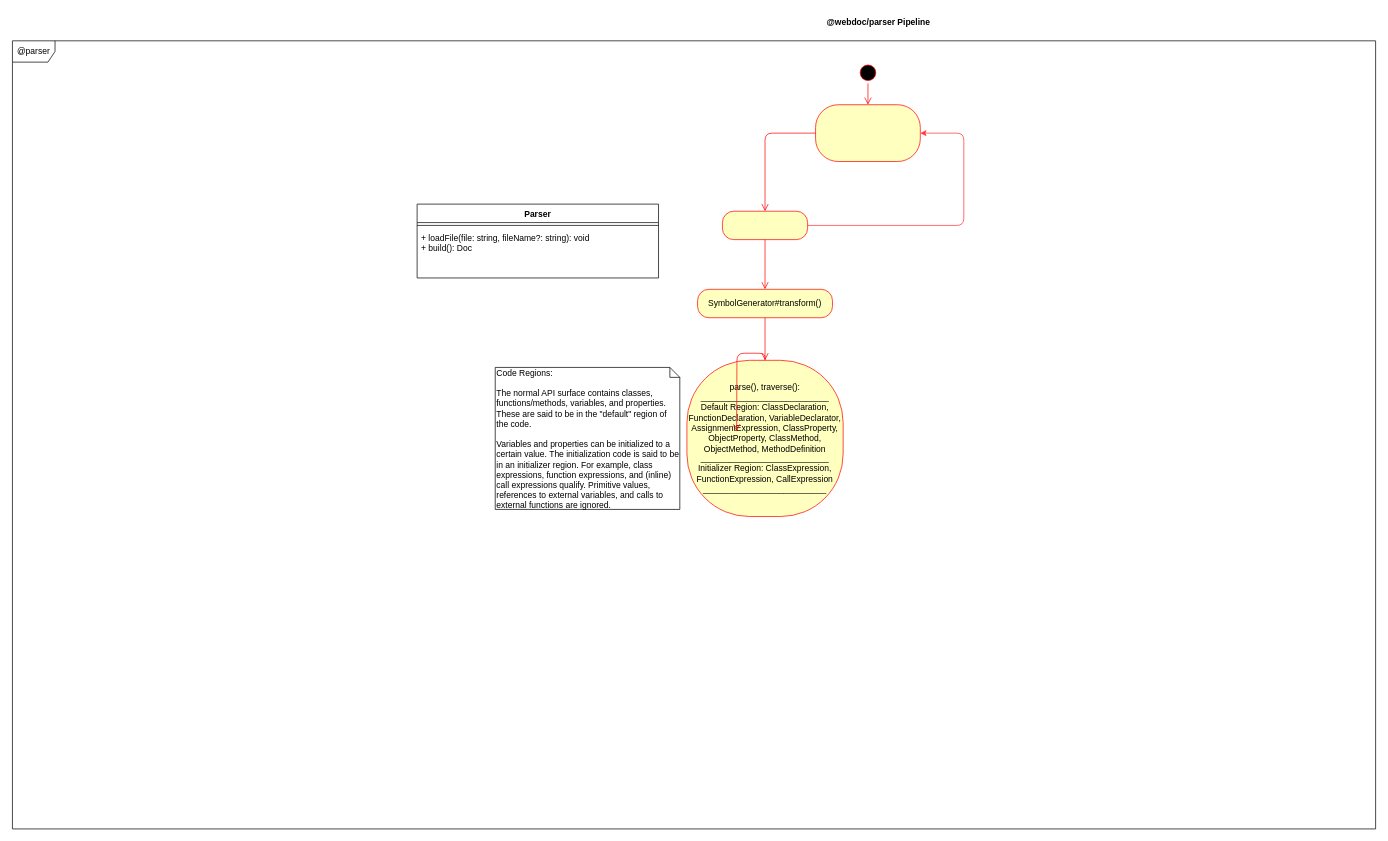
This 1388x841 diagram has some shape labels left out. Each missing label, with the centre of its shape:
"@webdoc/cli reads file and feeds the Parser (async)" goes at pixel 867 133.
"loadFile()" goes at pixel 765 225.
